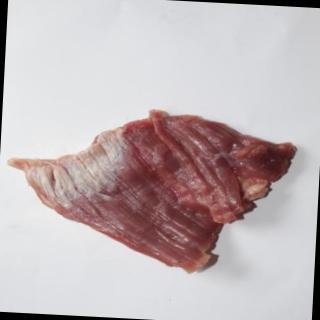Daging Sapi: (4, 104, 299, 280)
